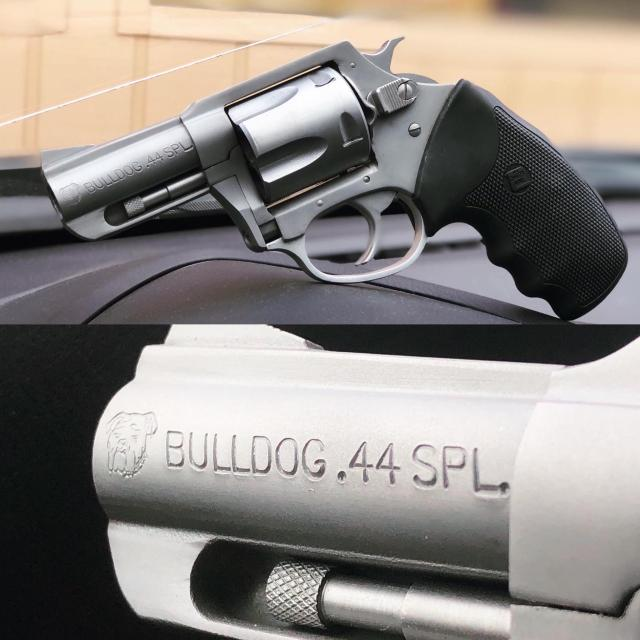Gun: (27, 18, 640, 339), (95, 316, 640, 640)
